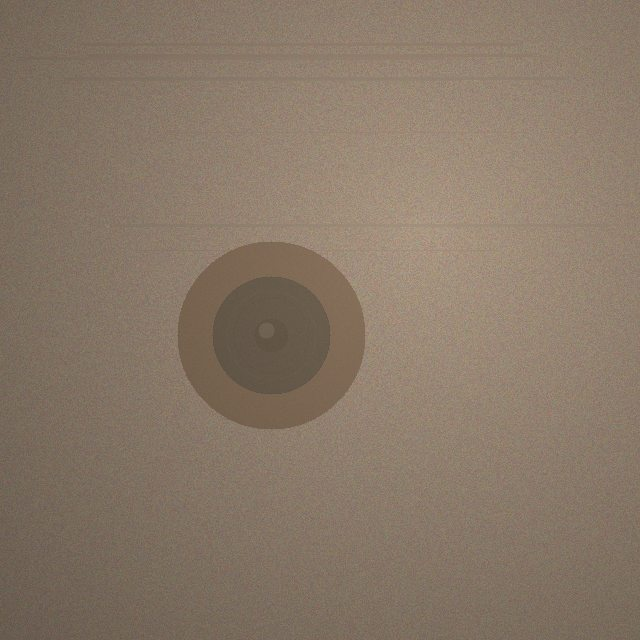good: (177, 241, 365, 429)
